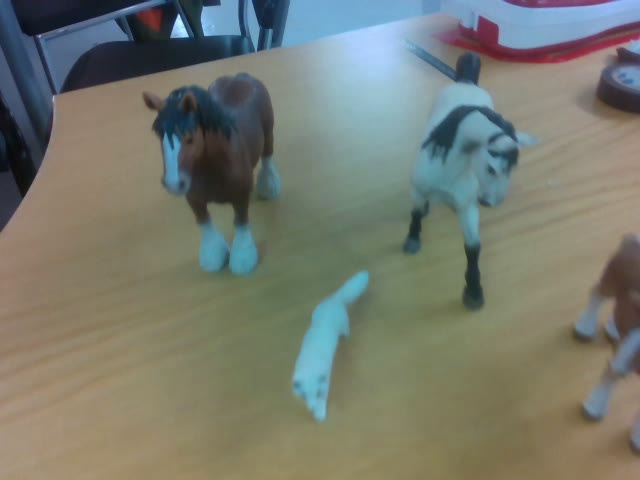toy: (403, 53, 537, 310), (142, 72, 281, 273), (290, 271, 369, 422)
